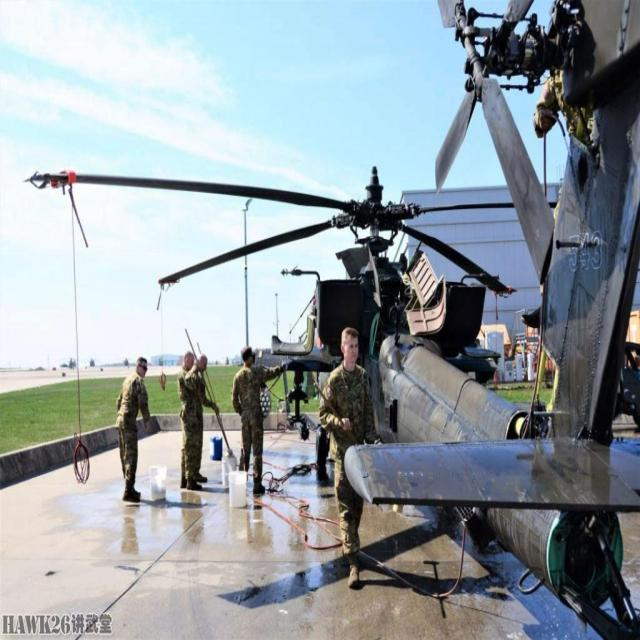MIL_HELO: (34, 154, 640, 612)
